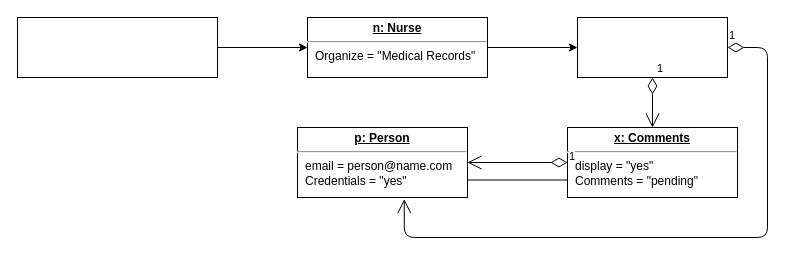
The diagram is 802 pixels wide and 272 high, and some of its shapes have lost their labels. Here are the shapes that lost their labels. From the top down, the centre of each, then its label:
point 117,47: a: Administrator Responsibilities = "approves"
point 652,47: m: Medical records Author = "doctor"
